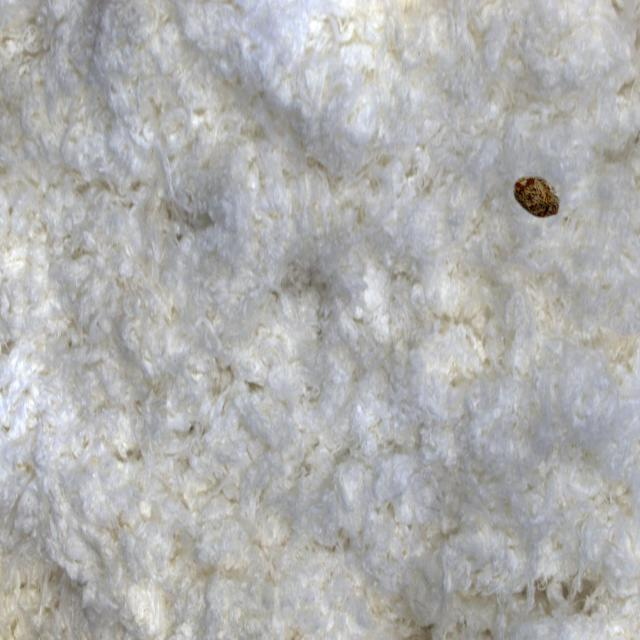dust: (499, 135, 588, 272)
